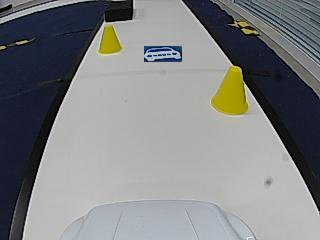block: (104, 0, 133, 22)
cone: (212, 67, 248, 116), (97, 24, 123, 54)
